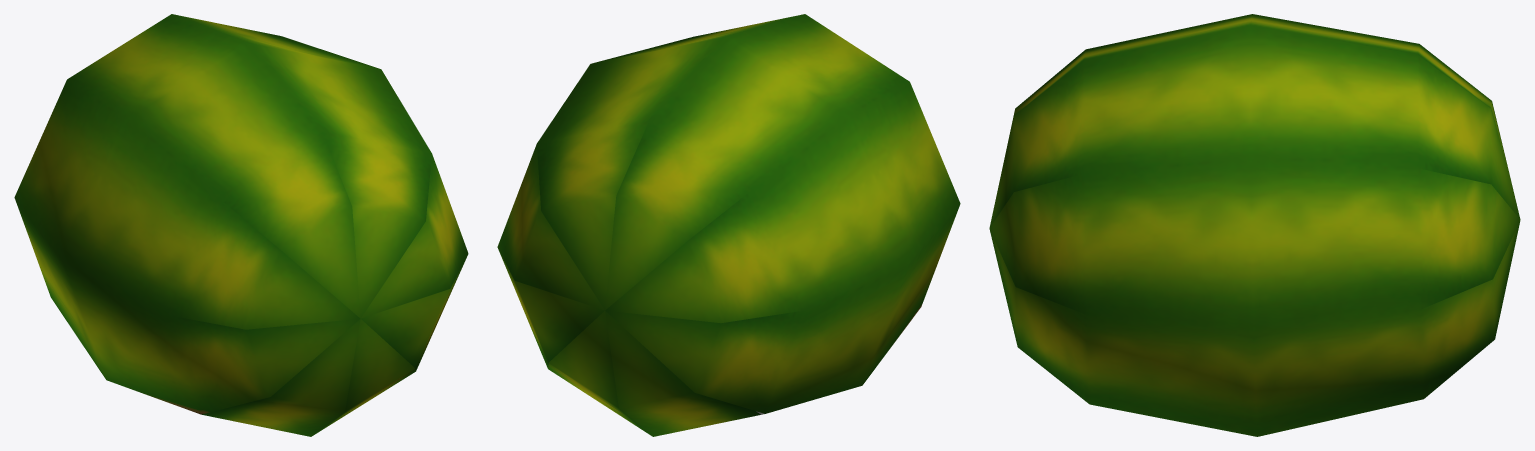
File: Melon.FBX
The picture shows the model from 3 angles, left to right: view 1: azimuth 30°, elevation 25°; view 2: azimuth 150°, elevation 25°; view 3: azimuth 270°, elevation 25°; orthographic projection. The views are drawn at different scales.
Visible parts, largest first — view 1: Melon; view 2: Melon; view 3: Melon.
Boxes of the visible parts, x1,y1,x2,y2 form: Melon: (14, 14, 468, 436); Melon: (497, 14, 960, 436); Melon: (989, 14, 1520, 436).
Size of the model in its own units: 53.14 by 51.38 by 61.62.
